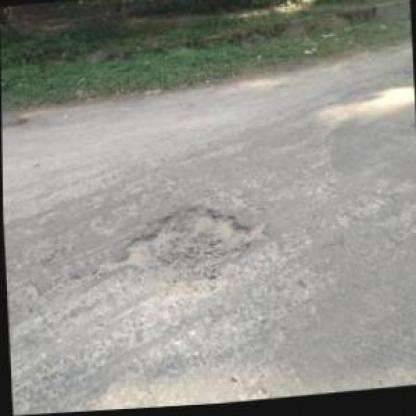pothole: (111, 199, 273, 289)
